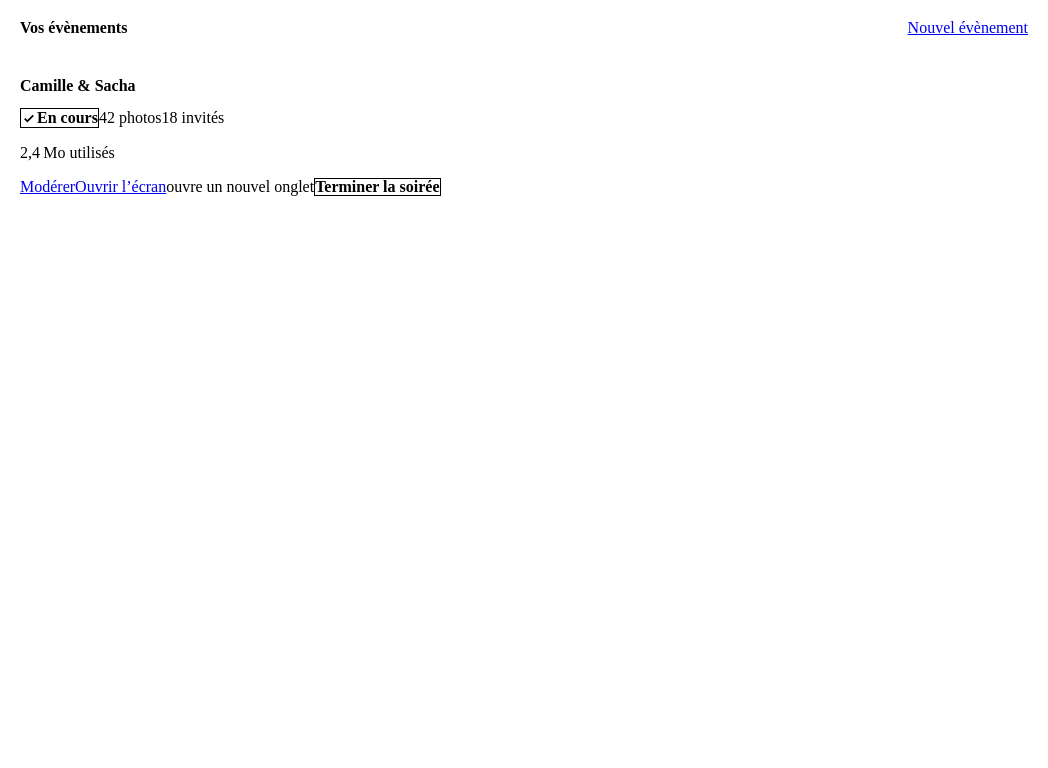
Test case: DashboardPage › ends the evening on one press and says what that did for the room
The width and height of the screenshot is (1048, 768).
Click the button "Terminer la soirée" at (377, 187), box [314,178,440,196]
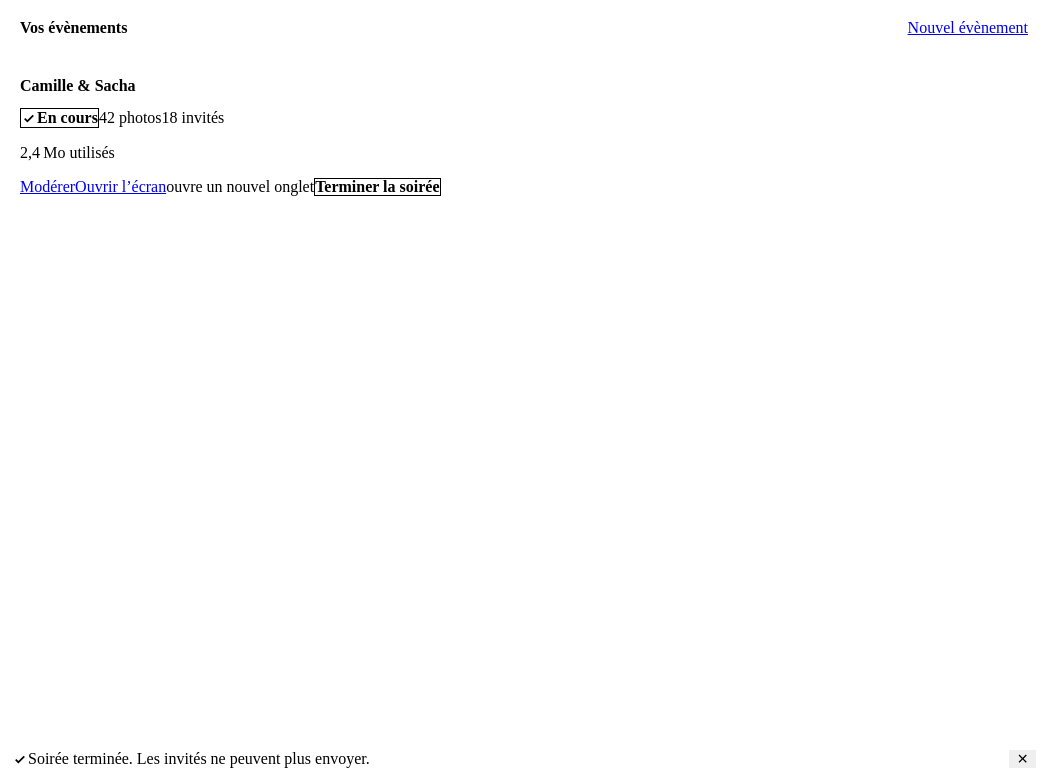
Expected: the text "Soirée terminée. Les invités ne peuvent plus envoyer." is shown, [28,750,370,767]
